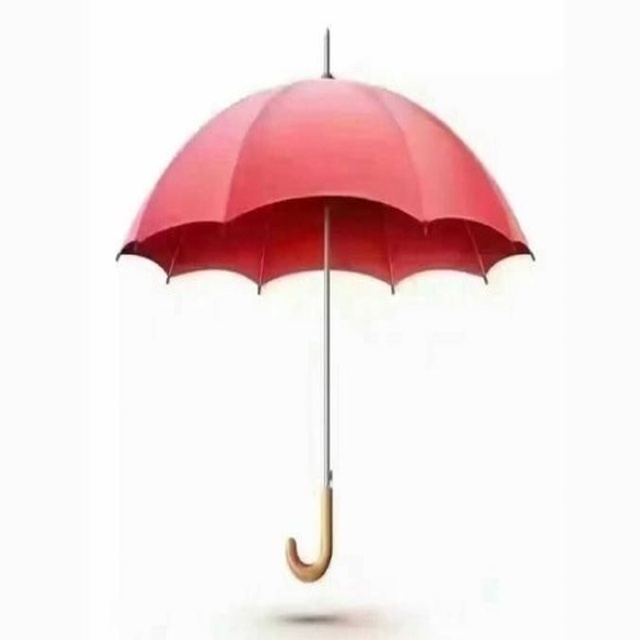umbrella: (104, 23, 543, 591)
